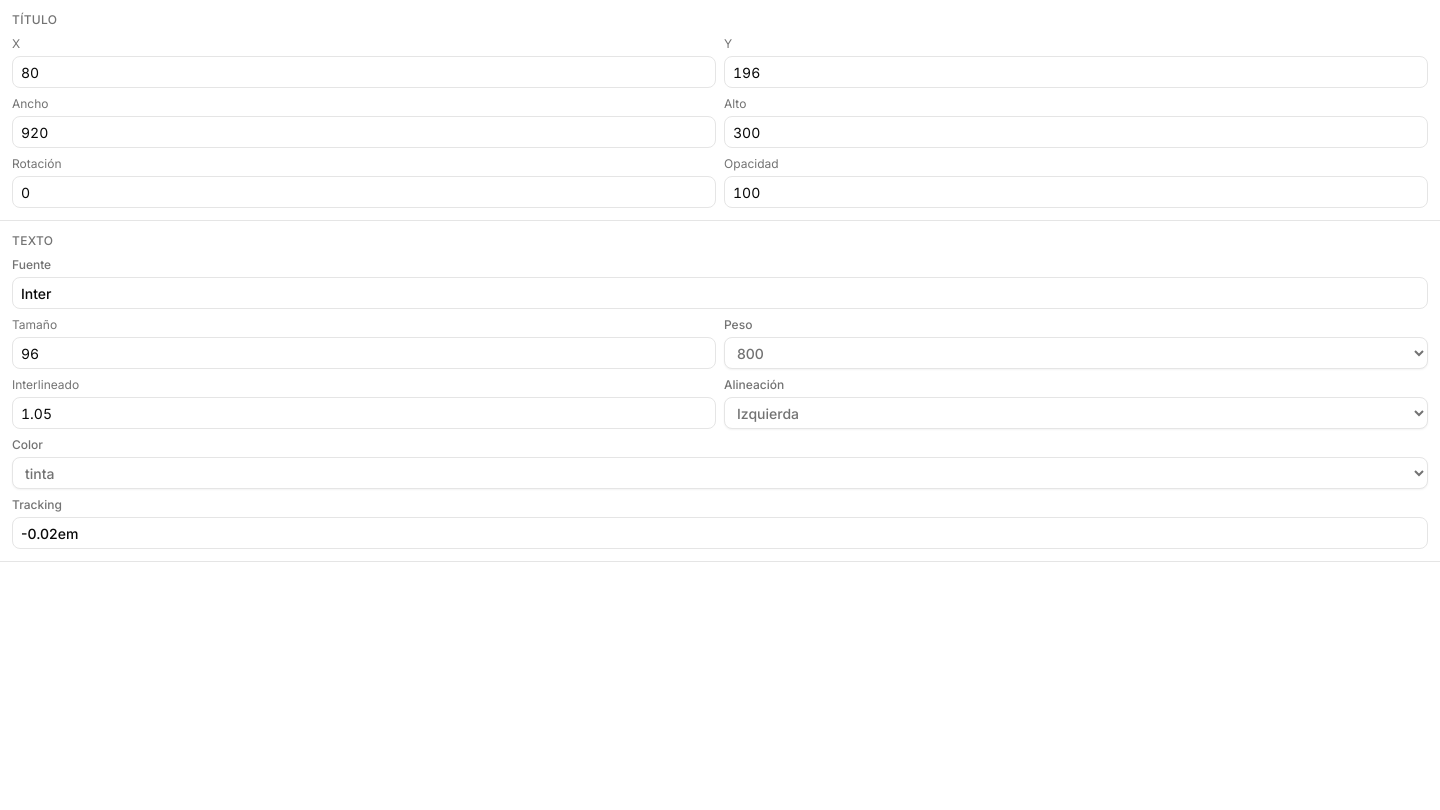
it: PanelPropiedades › X con decimales se redondea y el campo lo muestra
Step 1. Replace the text in the number field labelled "X" with "100.6" → (364,72), box [12,56,716,88]
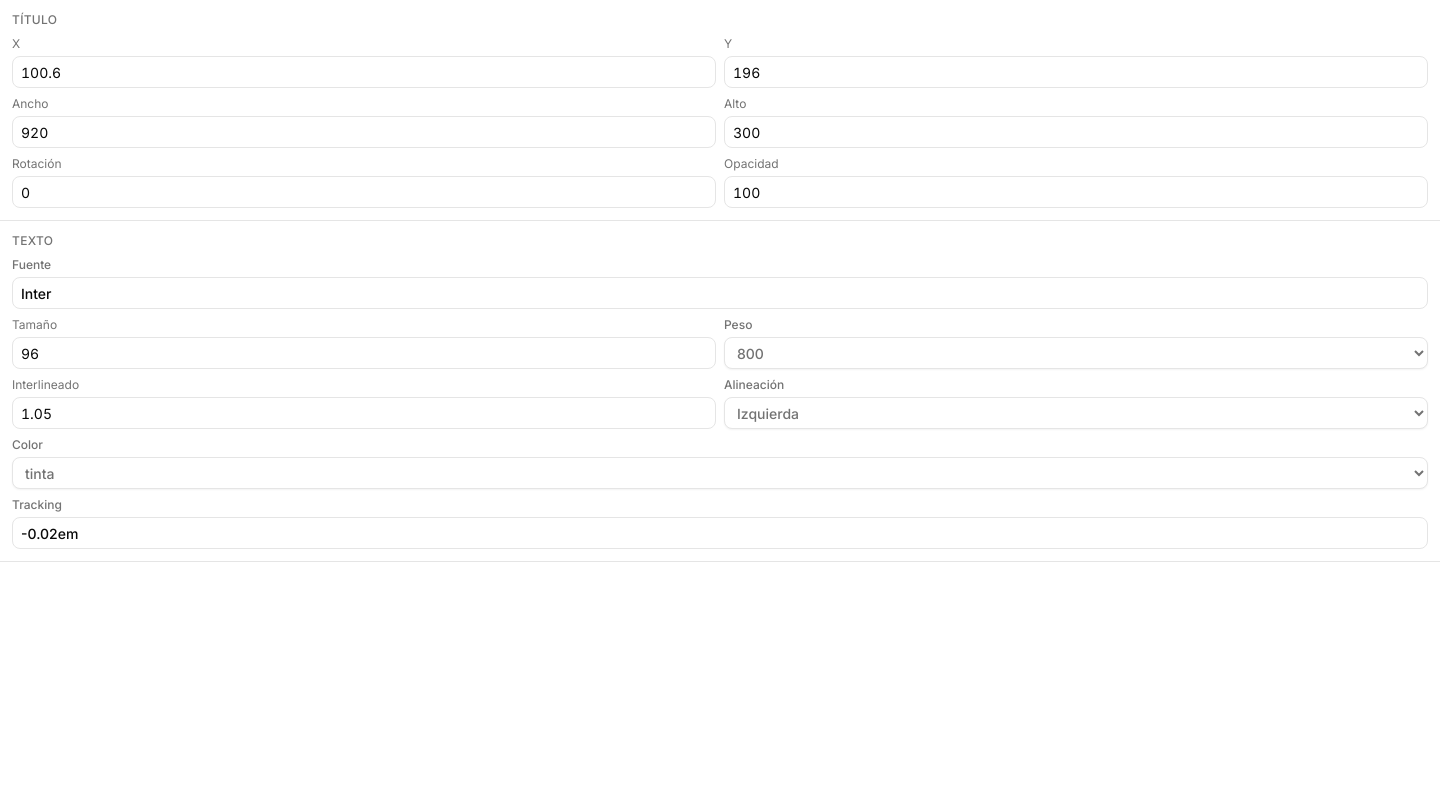
Step 2. Leave the number field labelled "X", box [12,56,716,88]
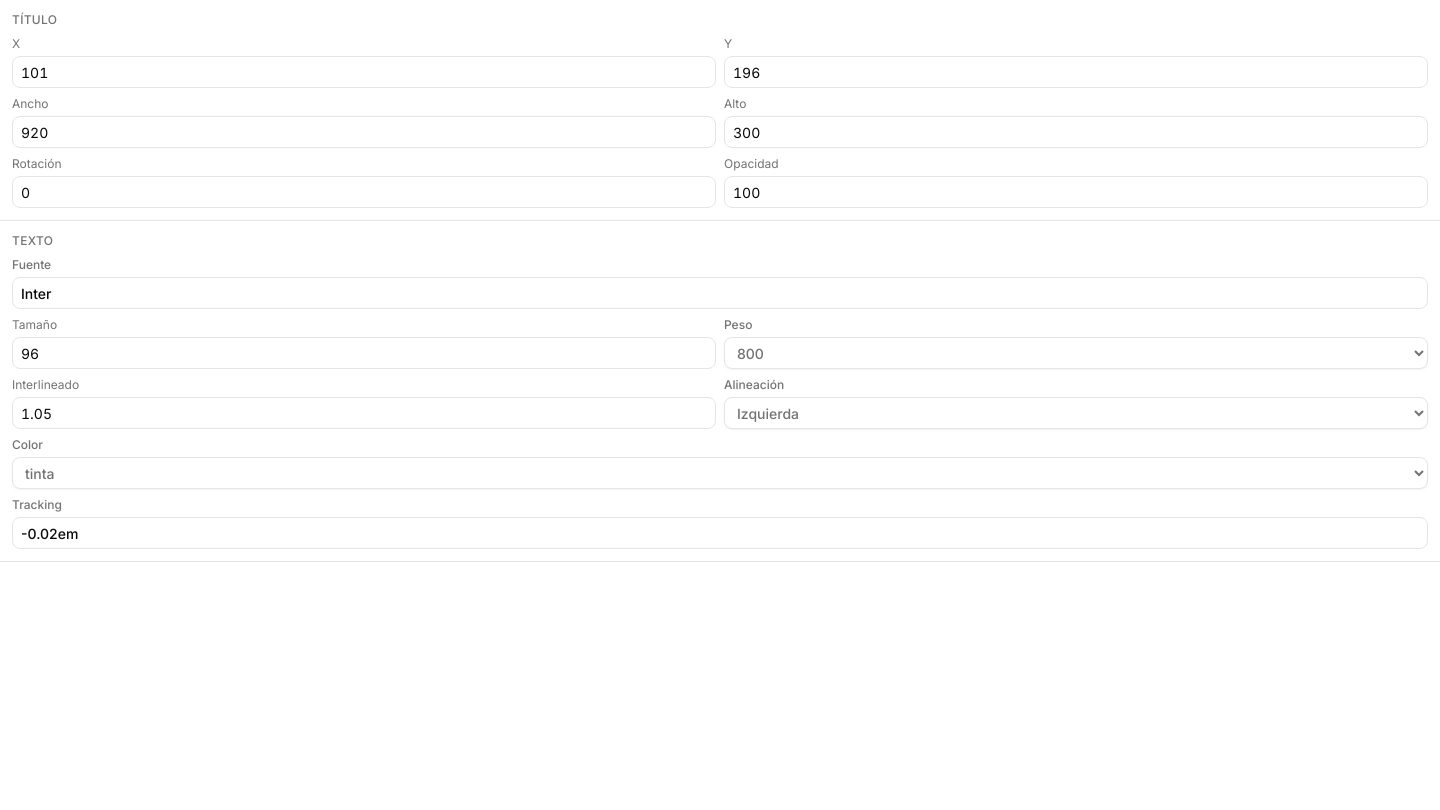
expect the number field labelled "X" holds "101": met, box [12,56,716,88]
